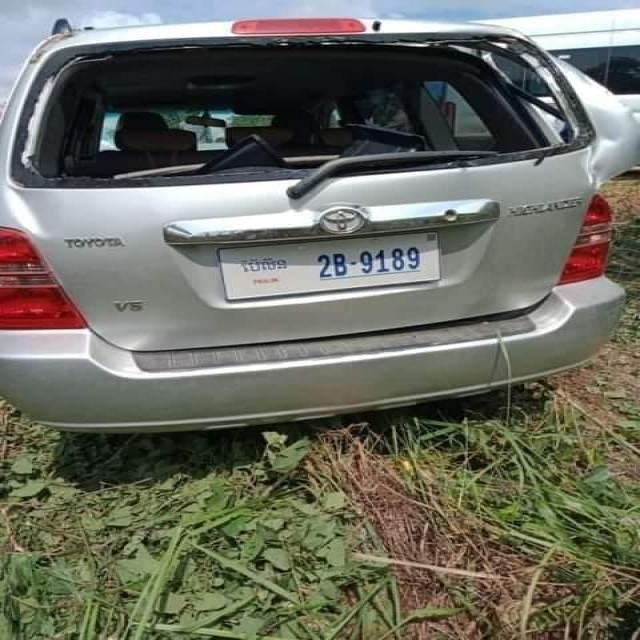Pailin: (240, 256, 288, 273)
